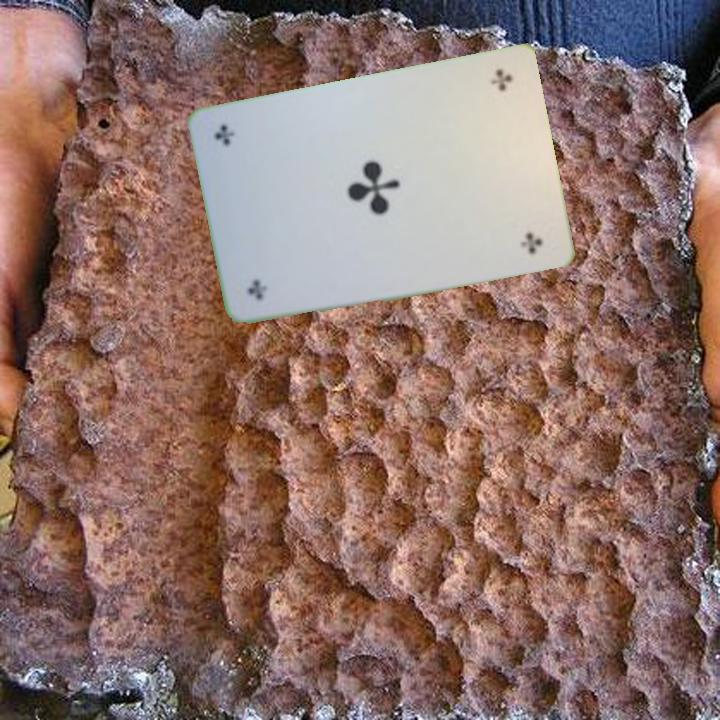c_a.png: (223, 199, 326, 313), (436, 61, 539, 175)
